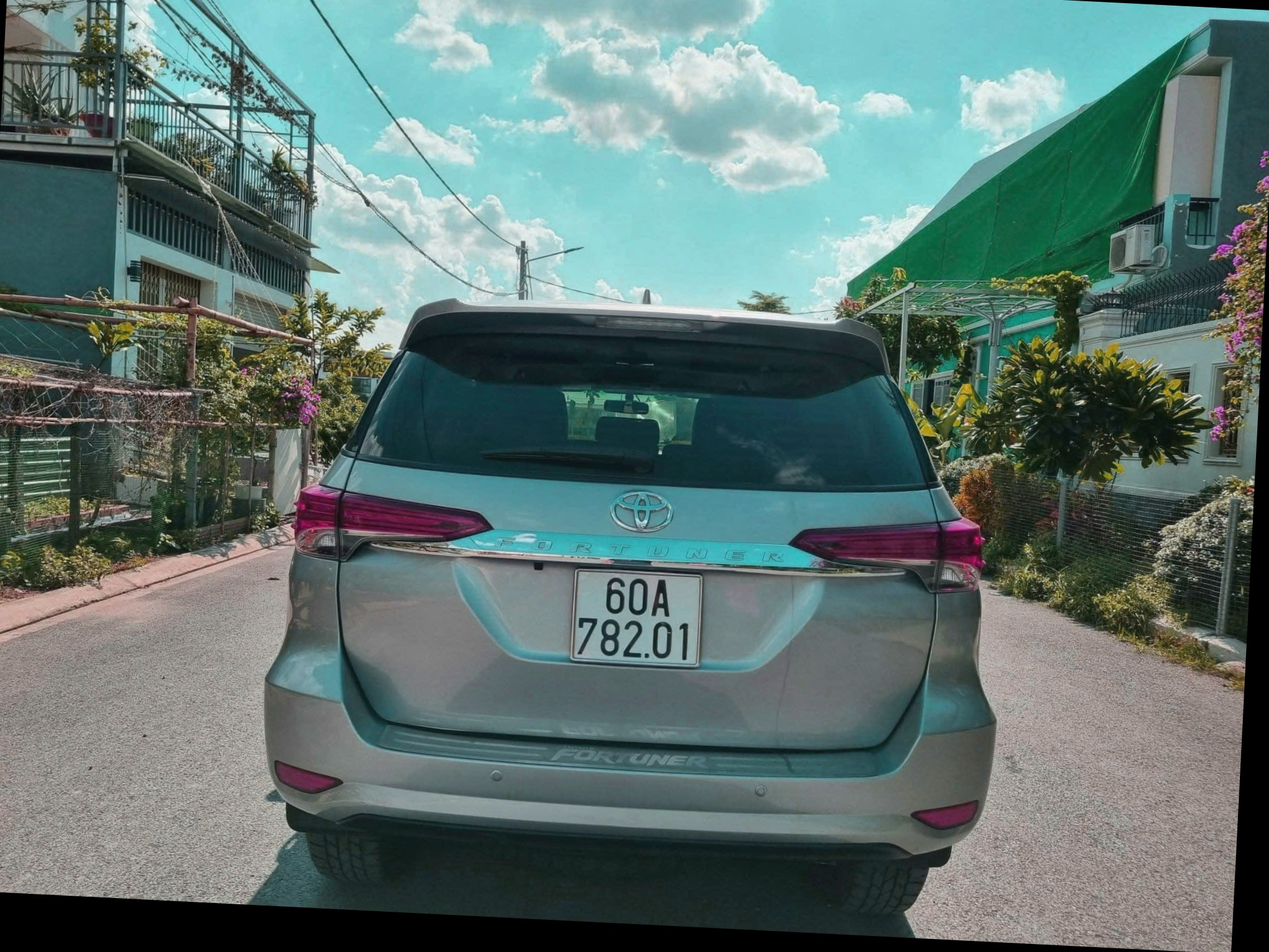Bien-so: (589, 591, 735, 695)
